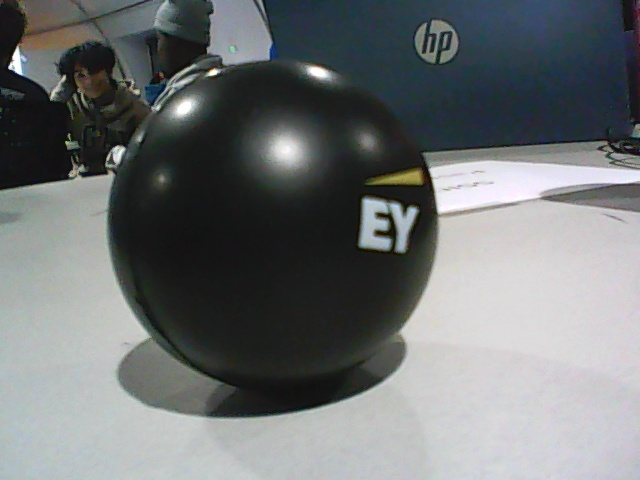ball: (108, 59, 439, 394)
